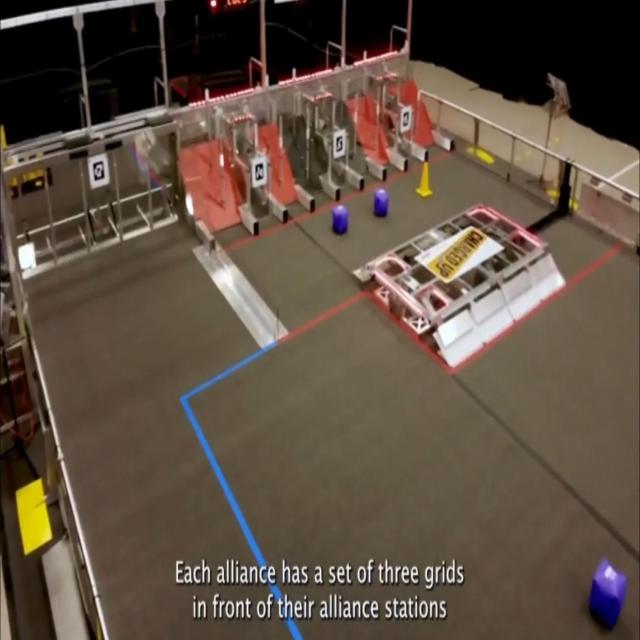frc_cone: (416, 162, 432, 198), (0, 124, 10, 150)
frc_cube: (590, 557, 626, 630), (332, 206, 349, 236), (373, 188, 389, 218)
